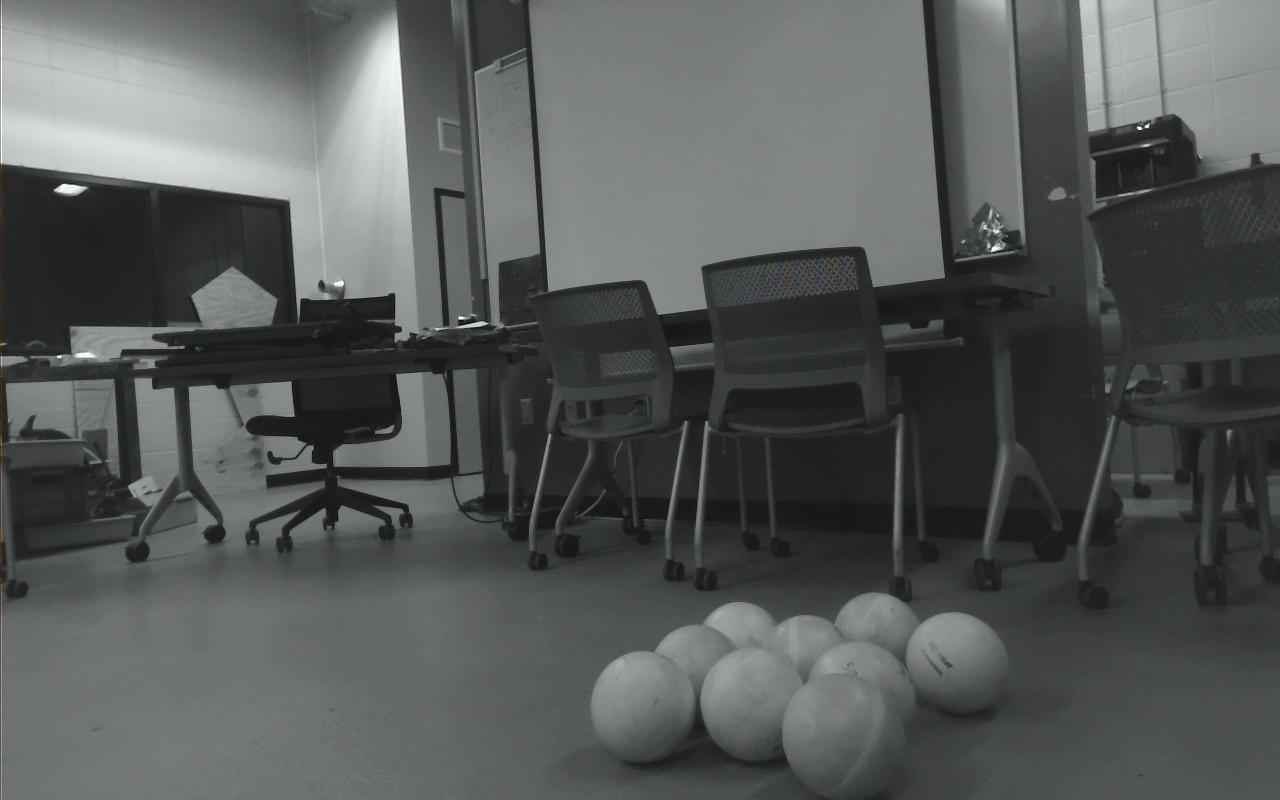Fuel: (780, 671, 905, 800), (699, 646, 804, 762), (590, 651, 696, 763), (806, 640, 918, 738), (908, 612, 1010, 714), (652, 624, 739, 721), (832, 592, 920, 676), (762, 615, 846, 691), (701, 601, 778, 663)
